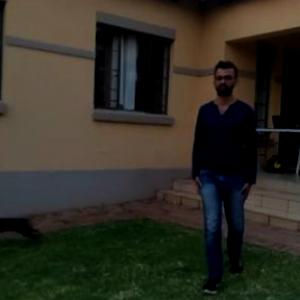follow: (189, 68, 254, 272)
